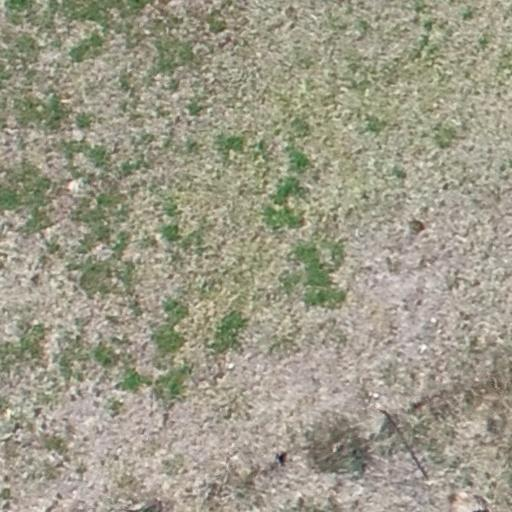stone: (228, 361, 236, 370)
